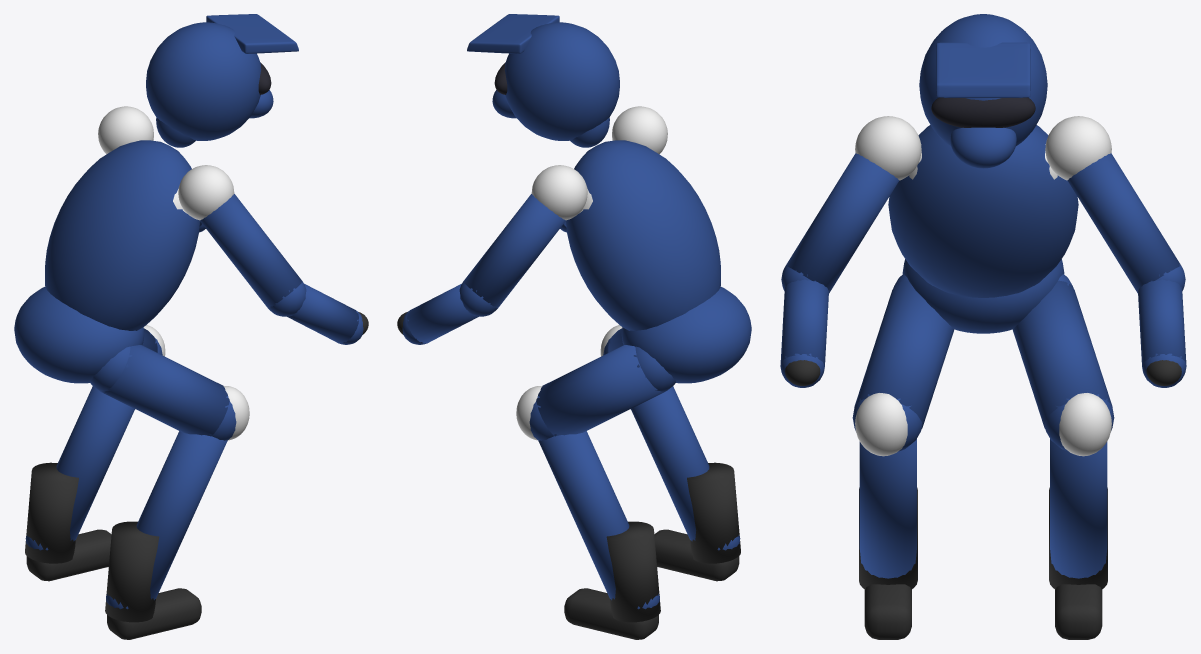
The model's file is ENDURO450_Pilota.glb.
3 renders of one model, left to right at view 1: azimuth 30°, elevation 25°; view 2: azimuth 150°, elevation 25°; view 3: azimuth 270°, elevation 25°, orthographic. The views are drawn at different scales.
Visible parts, largest first — view 1: ENDURO450_Pilota; view 2: ENDURO450_Pilota; view 3: ENDURO450_Pilota.
Boxes of the visible parts, bbox=[...] form: ENDURO450_Pilota: bbox=[14, 14, 368, 639]; ENDURO450_Pilota: bbox=[397, 14, 751, 639]; ENDURO450_Pilota: bbox=[780, 14, 1186, 639].
Bounding box in the file's own units: 0.7688 × 1.51 × 0.854.
